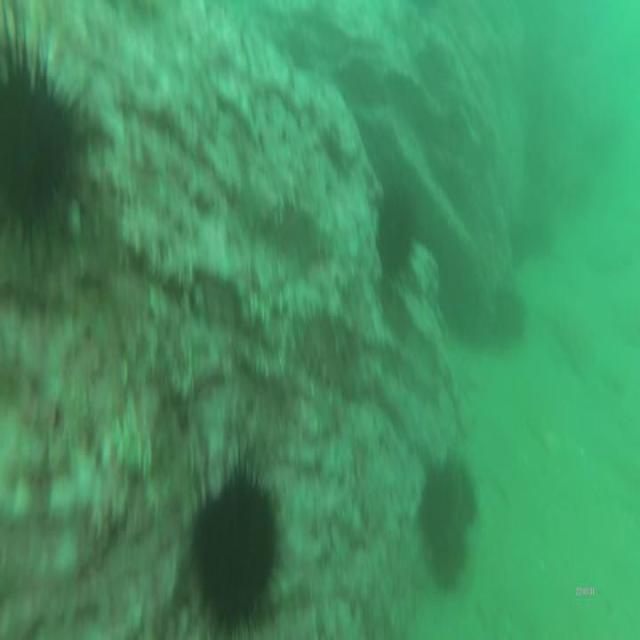echinus: (1, 0, 83, 256), (182, 442, 284, 640), (417, 446, 479, 600), (372, 174, 422, 286), (487, 272, 530, 351)
